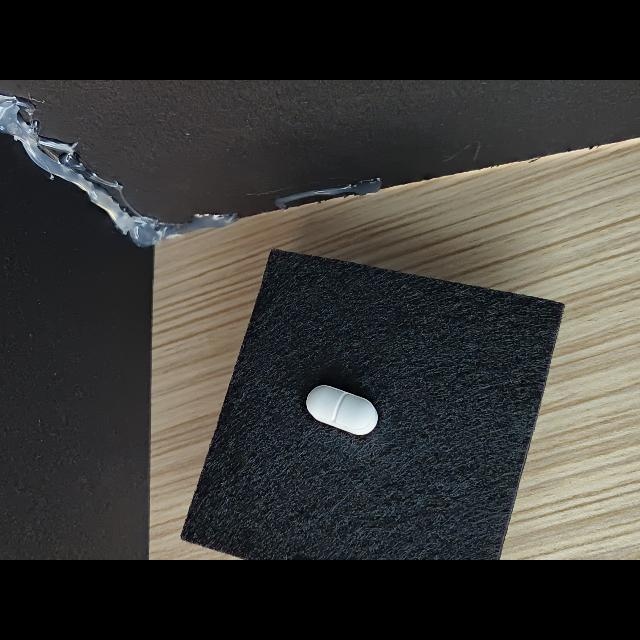Intact Pill: (306, 385, 378, 435)
